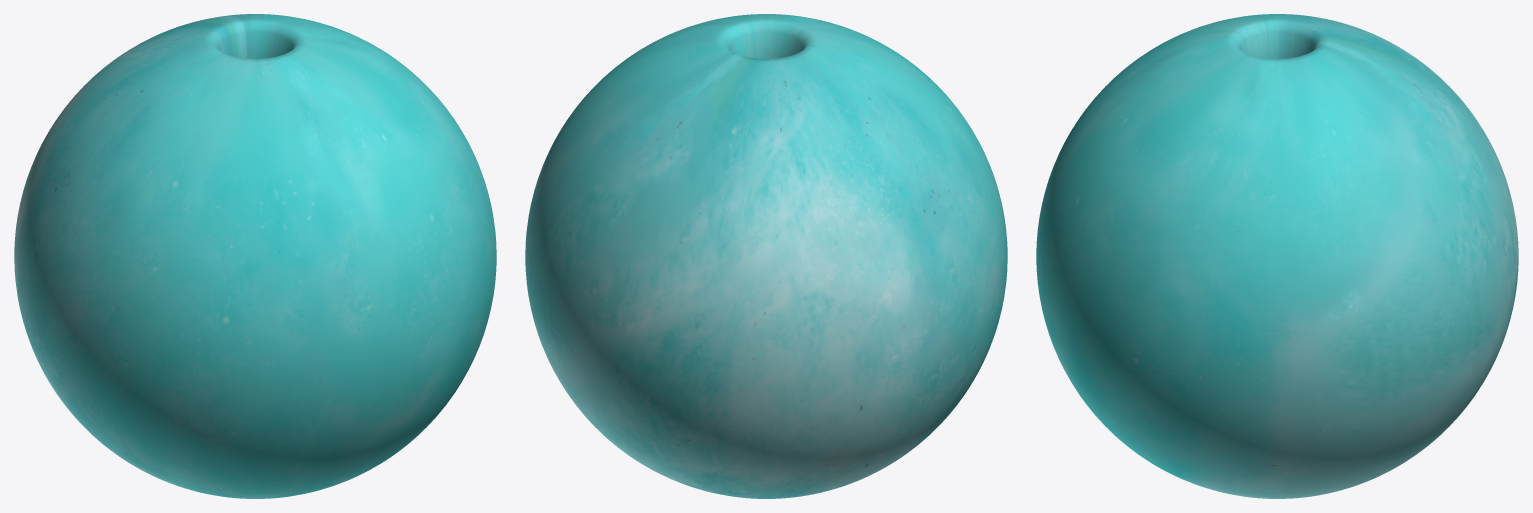
3 renders of one model, left to right at view 1: azimuth 30°, elevation 25°; view 2: azimuth 150°, elevation 25°; view 3: azimuth 270°, elevation 25°, orthographic.
Visible parts, largest first — view 1: Sphere; view 2: Sphere; view 3: Sphere.
Part boxes in pixels (x1,y1,x2,y2): Sphere: [14, 14, 496, 498]; Sphere: [525, 14, 1007, 498]; Sphere: [1036, 14, 1518, 498].
Bounding box in the file's own units: 0.9872 × 0.9747 × 0.9872.
Materials: 1 (1 with a texture image).
